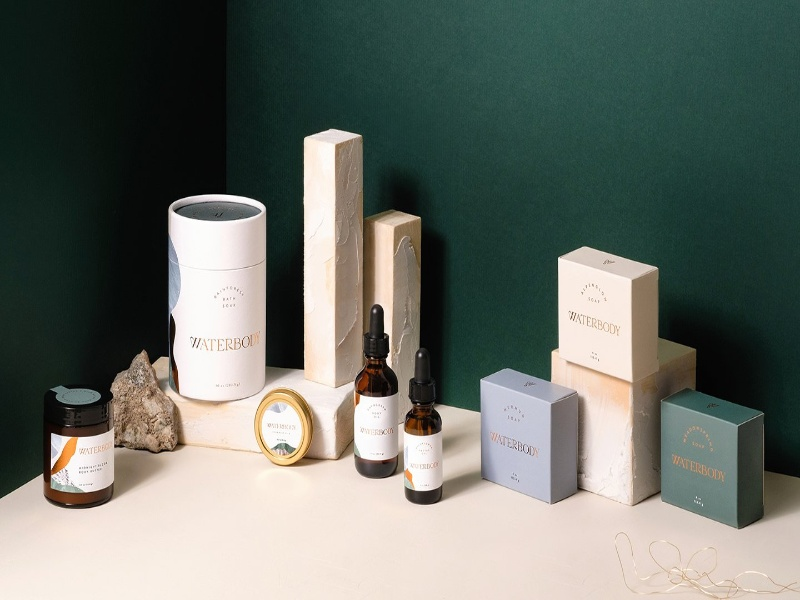Expired_cosmetics_NonBioD: (28, 100, 784, 548)
